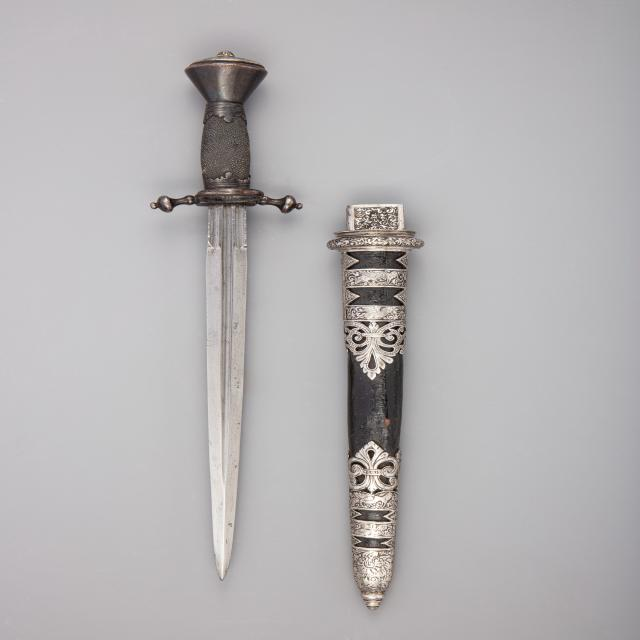Gun: (77, 39, 364, 618)
